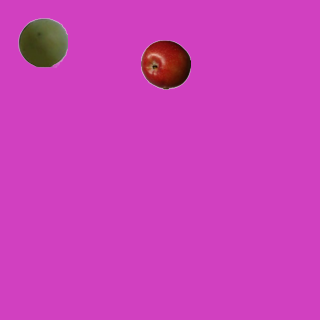Apple Braeburn: (140, 39, 190, 89)
Grape White 4: (17, 17, 67, 67)
